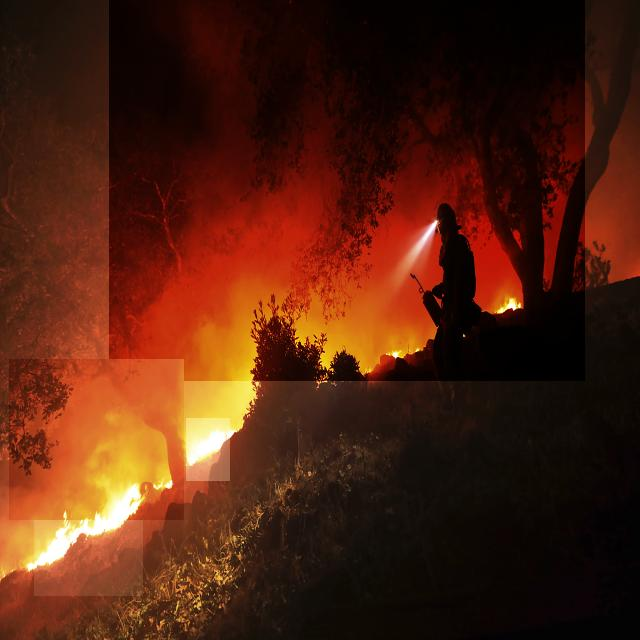Fire: (34, 495, 143, 596), (186, 418, 230, 481), (490, 287, 526, 322), (377, 339, 401, 372)
Smoke: (109, 0, 585, 381), (9, 359, 184, 520)
